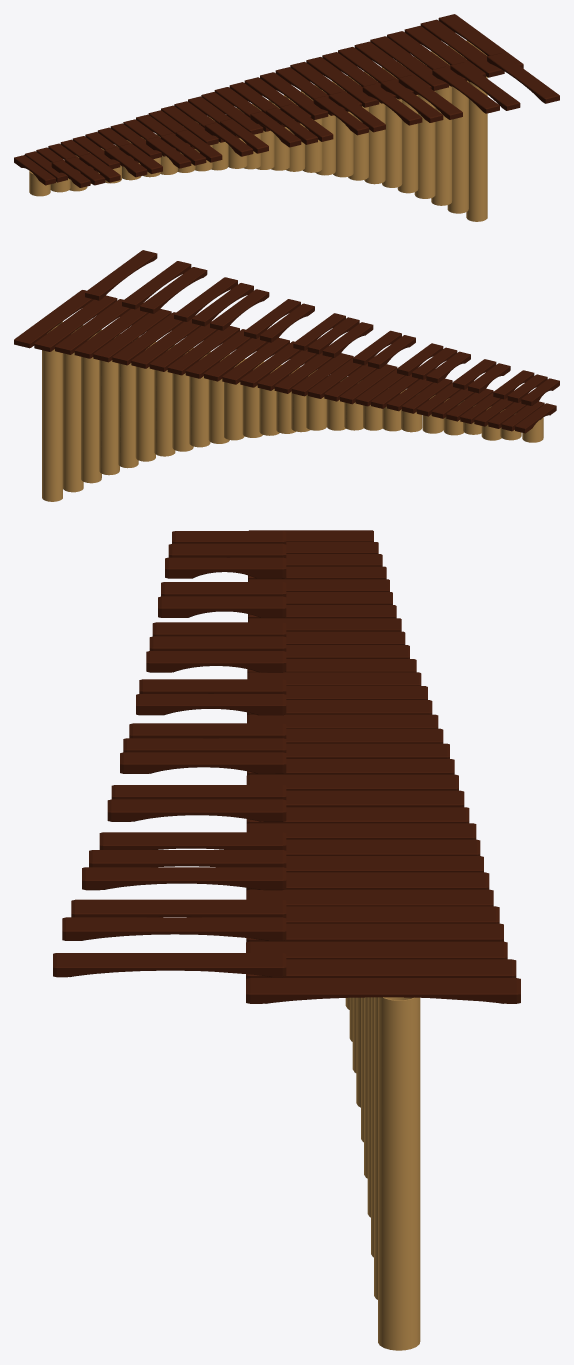
The model's file is mariba_keys.FBX.
The picture shows the model from 3 angles, top to bottom: view 1: azimuth 30°, elevation 25°; view 2: azimuth 150°, elevation 25°; view 3: azimuth 270°, elevation 25°; orthographic projection. The views are drawn at different scales.
Parts seen in each view (by area): view 1: Tube001, Tube002, Tube003, Tube004, Tube006, Box033, Tube005, Tube007, Box030, Box037, Box035, Box040 (+56 smaller); view 2: Tube001, Tube002, Tube003, Tube004, Tube006, Tube005, Tube007, Tube009, Tube008, Box033, Box035, Box032 (+63 smaller); view 3: Tube001, Box035, Box037, Box032, Box040, Box033, Box031, Box029, Box041, Box039, Box030, Box028 (+42 smaller).
Part boxes in pixels (x1,y1,x2,y2): Tube001: [466, 40, 487, 221]; Tube002: [447, 45, 468, 213]; Tube003: [431, 51, 452, 205]; Tube004: [414, 57, 435, 198]; Tube006: [382, 67, 402, 187]; Box033: [420, 19, 504, 77]; Tube005: [397, 62, 418, 193]; Tube007: [364, 71, 385, 184]; Box030: [370, 36, 448, 90]; Box037: [487, 53, 559, 103]; Box035: [438, 14, 523, 68]; Box040: [450, 62, 520, 110]; Tube001: [42, 321, 62, 501]; Tube002: [62, 325, 83, 492]; Tube003: [81, 329, 101, 483]; Tube004: [99, 334, 119, 475]; Tube006: [135, 342, 155, 461]; Tube005: [118, 337, 138, 468]; Tube007: [154, 345, 175, 456]; Tube009: [189, 348, 210, 447]; Tube008: [172, 347, 193, 451]; Box033: [34, 295, 117, 351]; Box035: [14, 290, 93, 348]; Box032: [55, 299, 130, 354]; Tube001: [378, 997, 420, 1350]; Box035: [246, 978, 520, 1003]; Box037: [53, 953, 286, 977]; Box032: [246, 941, 507, 959]; Box040: [62, 917, 286, 940]; Box033: [246, 959, 516, 978]; Box031: [246, 923, 503, 942]; Box029: [246, 889, 493, 906]; Box041: [82, 867, 286, 890]; Box039: [71, 899, 286, 917]; Box030: [286, 906, 499, 923]; Box028: [246, 872, 489, 890].
Size of the model in its own units: 564 by 210 by 240.
